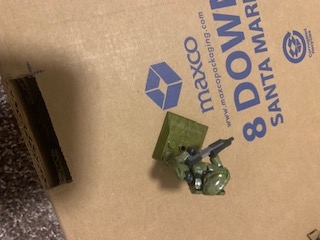soldier: (161, 125, 238, 201)
